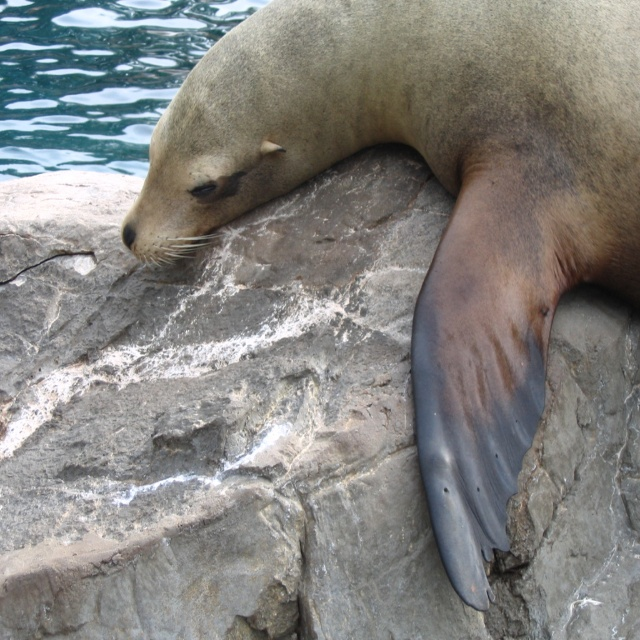Harbor seal: (129, 26, 612, 540)
